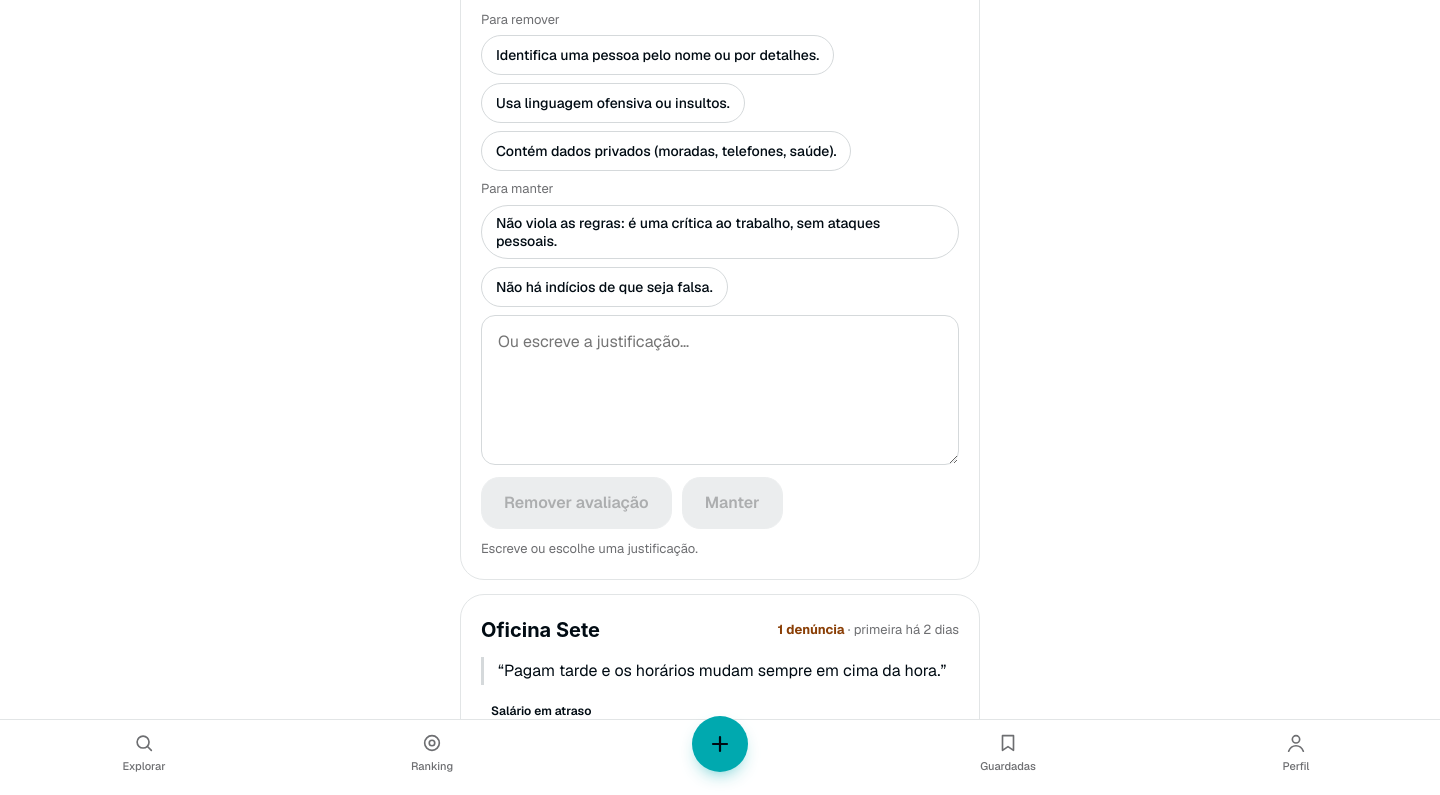
Test case: Moderação, demonstração (mobile) › decidir exige justificação (10+ caracteres); remover e manter tiram da fila
(page scrolled)
Expected: the button "Remover avaliação" is disabled, [481,477,672,529]
Expected: the text "Escreve ou escolhe uma justificação." is shown, [481,539,698,559]
Type "curto" into the text box. click: [720, 390]
box: [481,315,959,465]
Click the button "Identifica uma pessoa pelo nome ou por detalhes.". click: [658, 55]
box: [481,35,834,75]
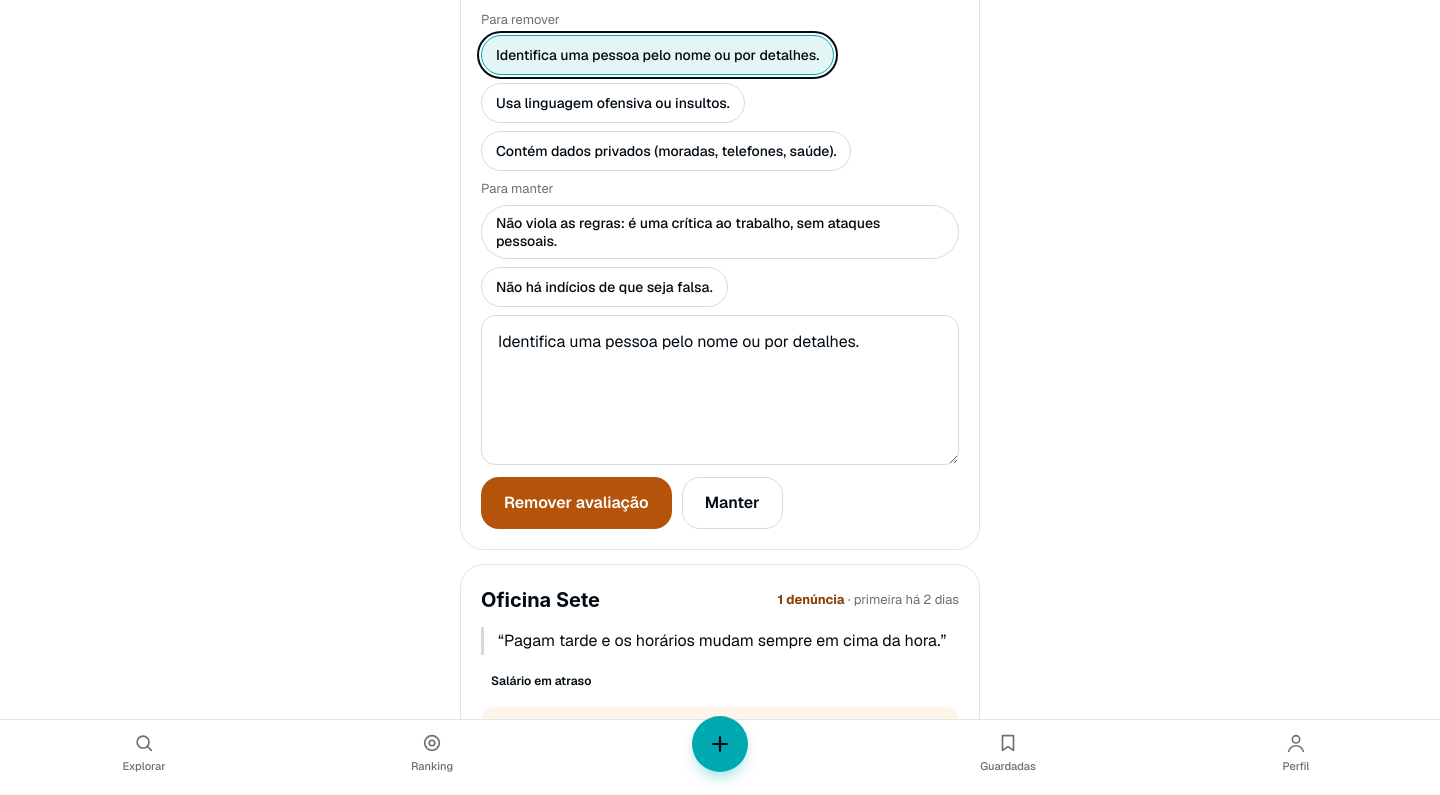
Now the text box holds "Identifica uma pessoa pelo nome ou por detalhes.", box [481,315,959,465]
Click the button "Remover avaliação". click: [576, 503]
box: [481,477,672,529]
(page scrolled)
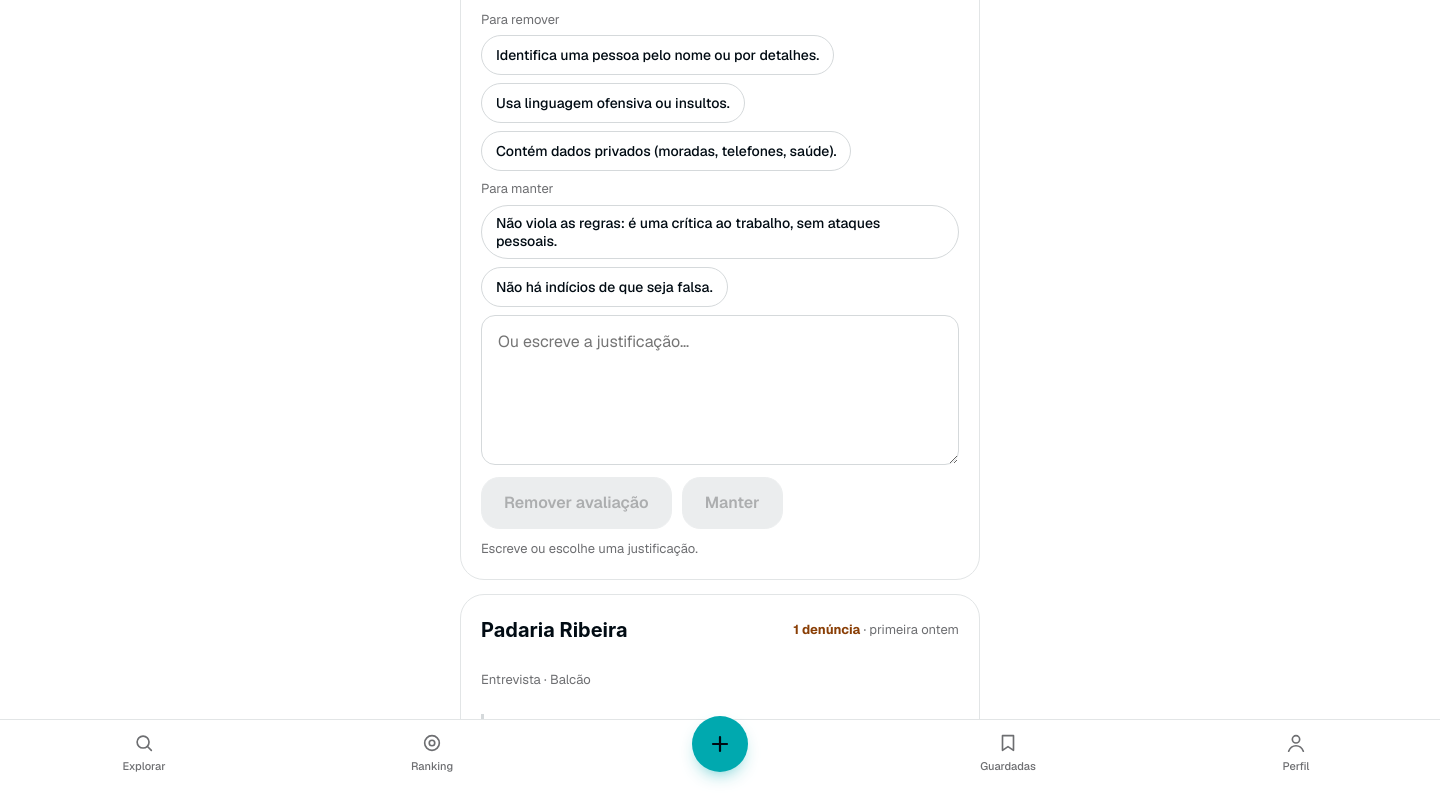
Type "Crítica ao trabalho, sem ataques." into the text box. click: [720, 390]
box: [481,315,959,465]
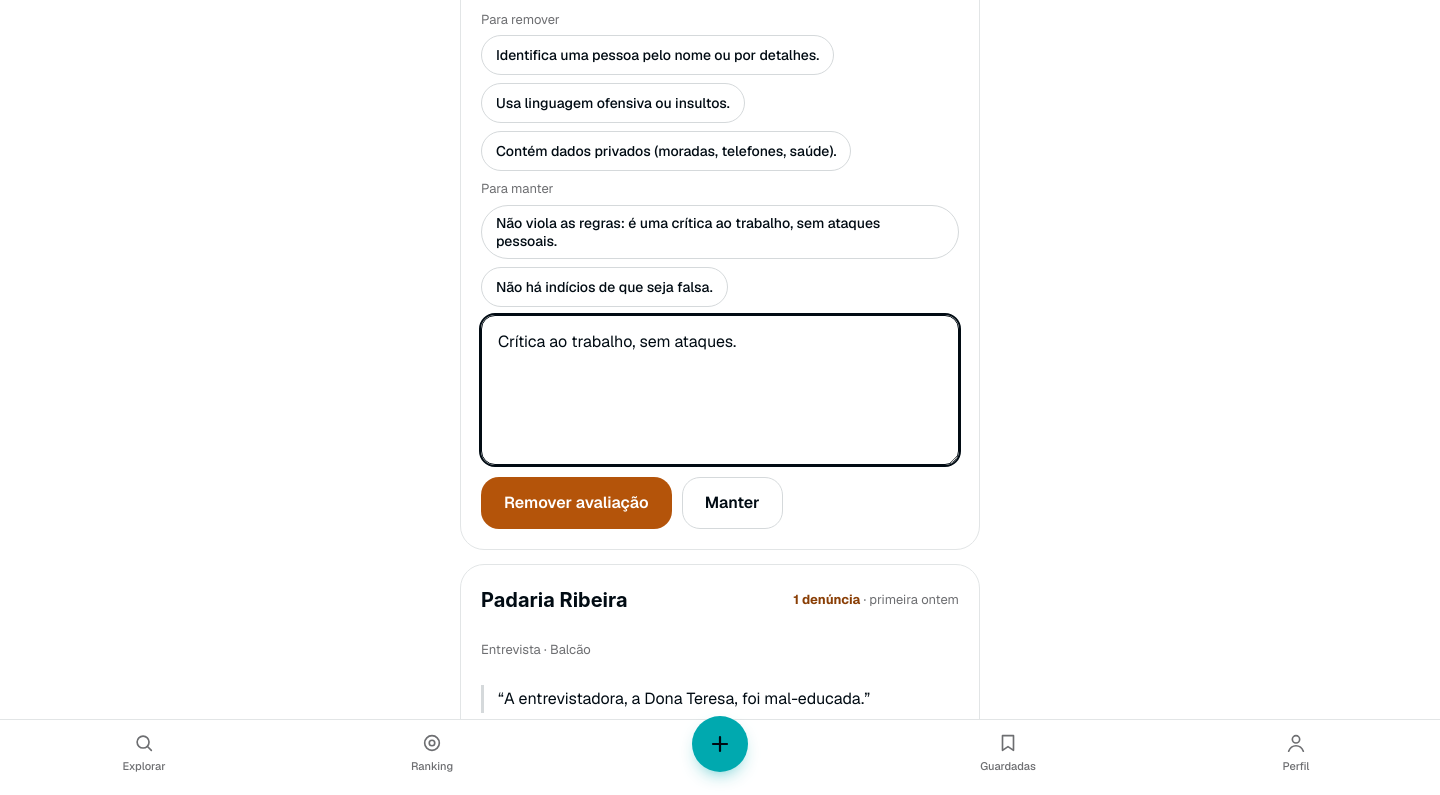
Click the button "Manter". click: [732, 503]
box: [682,477,783,529]
(page scrolled)
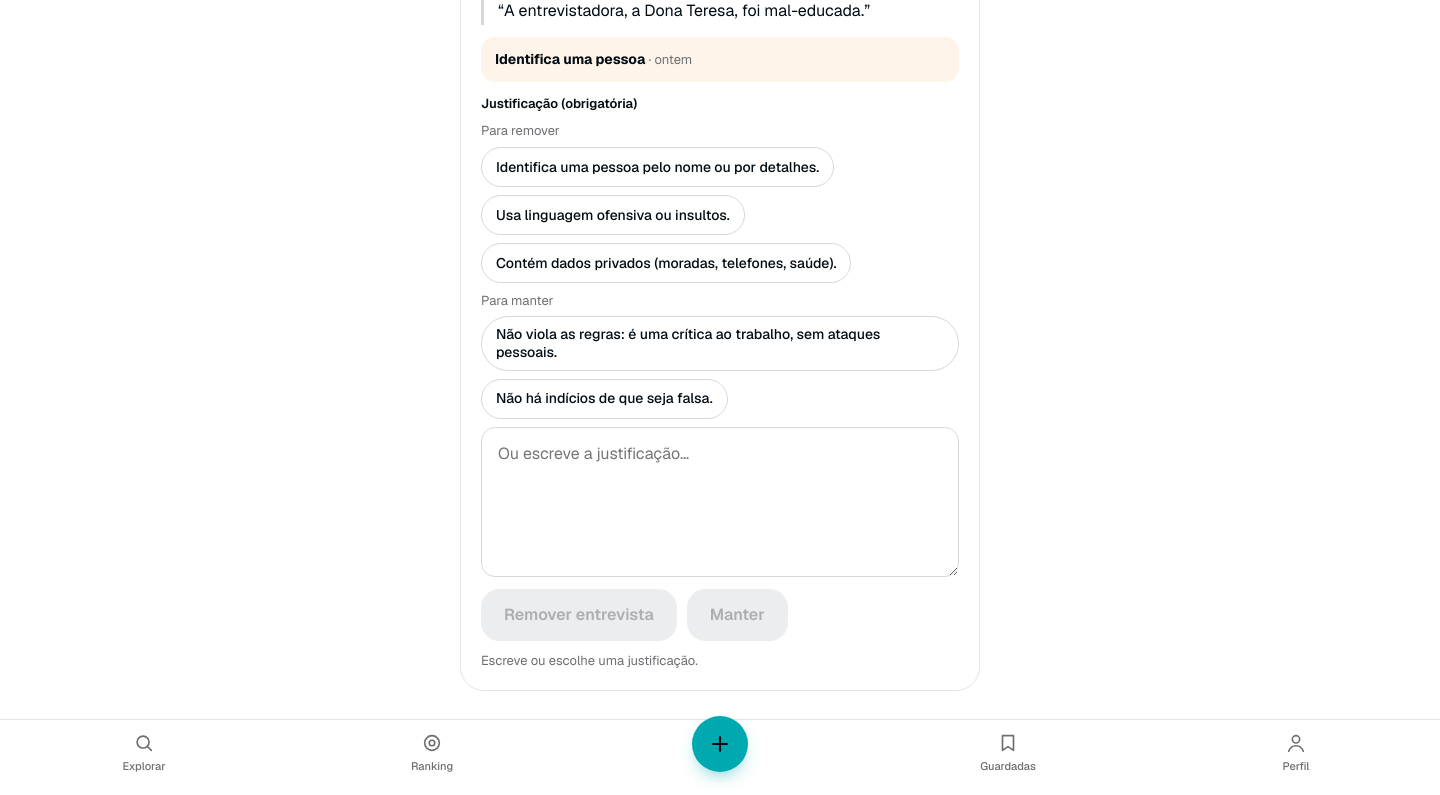
Type "Identifica uma pessoa pelo nome." into the text box. click: [720, 502]
box: [481,427,959,577]
(page scrolled)
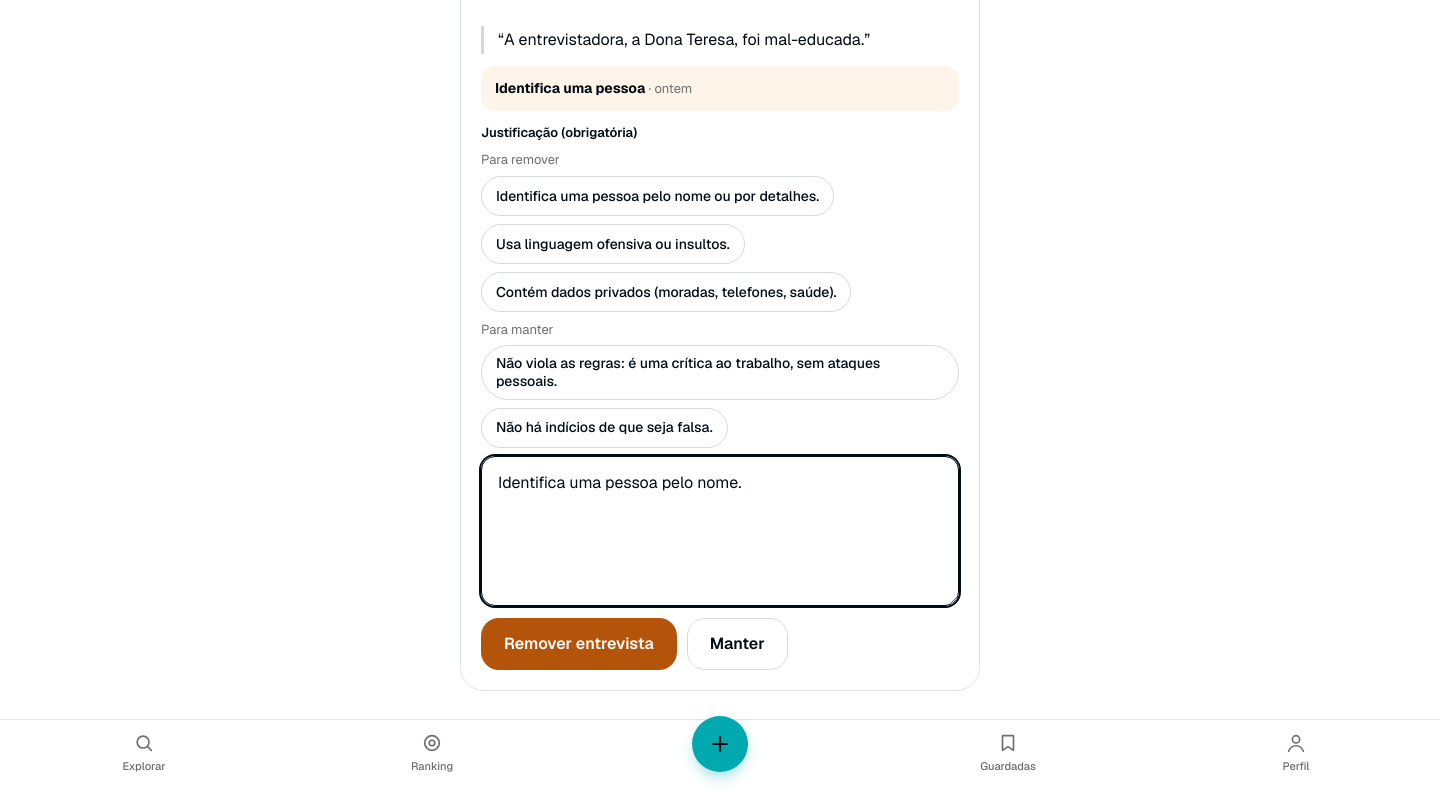
Click the button "Remover entrevista". click: [579, 644]
box: [481,618,677,670]
(page scrolled)
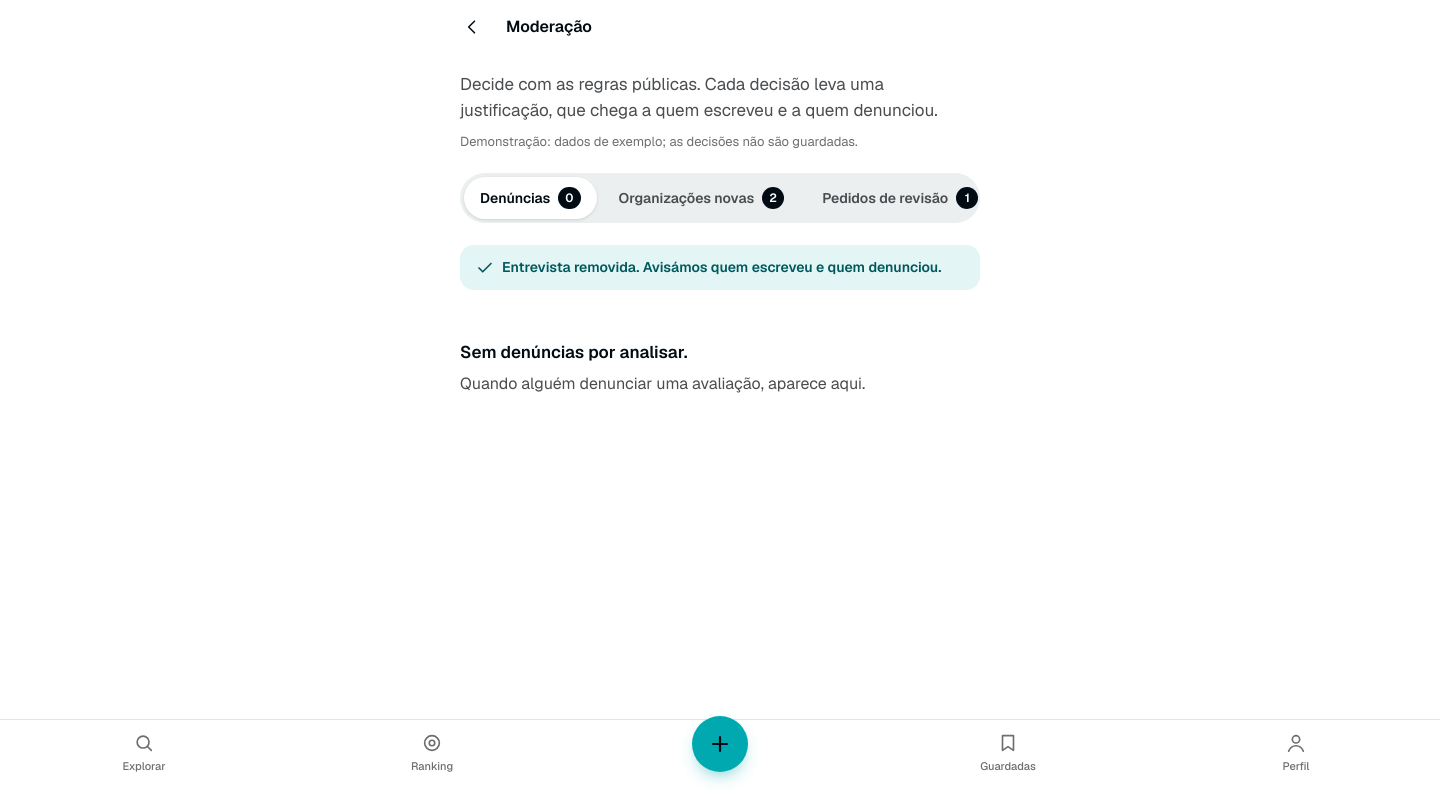
Now the text "Sem denúncias por analisar." is shown, box [460,341,688,363]
